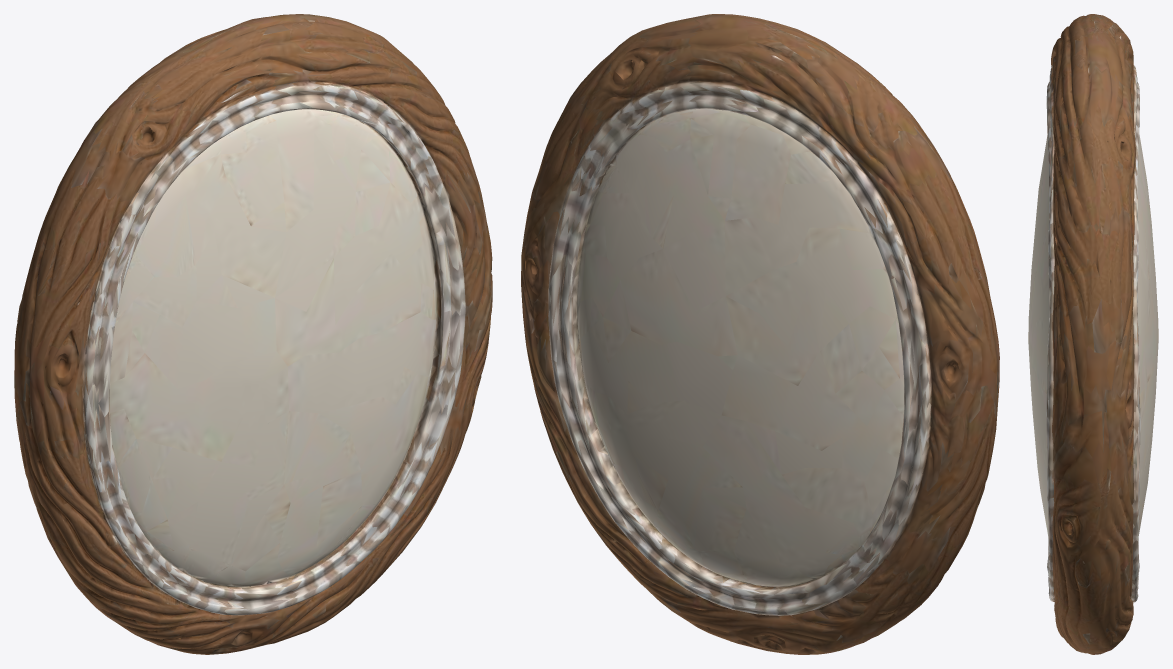
3 renders of one model, left to right at view 1: azimuth 30°, elevation 25°; view 2: azimuth 150°, elevation 25°; view 3: azimuth 270°, elevation 25°, orthographic. The views are drawn at different scales.
Size of the model in its own units: 1.5 by 1.9 by 0.3748.
Materials: 1 (1 with a texture image).
